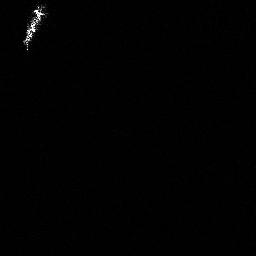ship: (20, 3, 47, 50)
